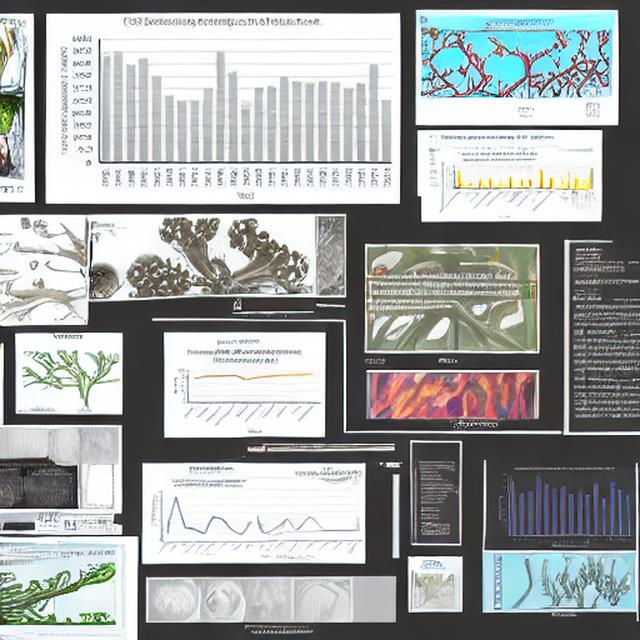Graph: (58, 15, 398, 203), (169, 346, 321, 435), (495, 464, 636, 551), (152, 478, 256, 558), (438, 151, 558, 220), (19, 471, 78, 509)
